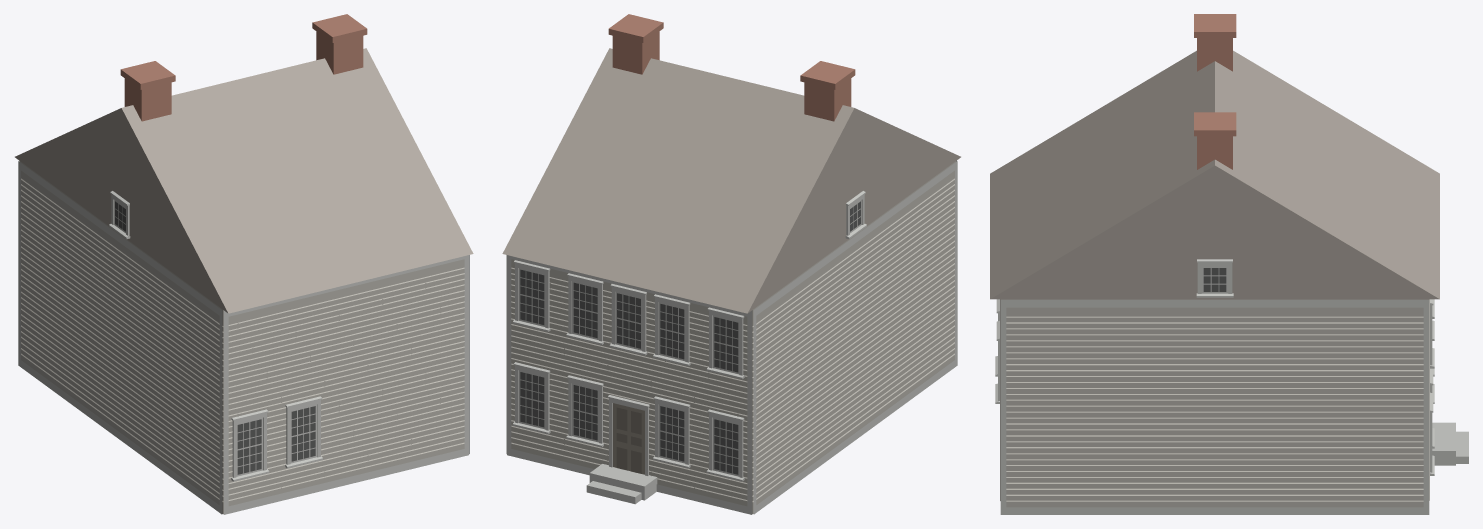
File: recon_1835_blk_washington_wells_d7_04__inferred_1835.glb
3 views of the same model, side by side, from view 1: azimuth 30°, elevation 25°; view 2: azimuth 150°, elevation 25°; view 3: azimuth 270°, elevation 25° (orthographic). The views are drawn at different scales.
Parts seen in each view (by area): view 1: recon_1835_blk_washington_wells_d7_04__inferred_1835; view 2: recon_1835_blk_washington_wells_d7_04__inferred_1835; view 3: recon_1835_blk_washington_wells_d7_04__inferred_1835.
Part boxes in pixels (x1,y1,x2,y2): recon_1835_blk_washington_wells_d7_04__inferred_1835: (15,14,473,514); recon_1835_blk_washington_wells_d7_04__inferred_1835: (502,14,960,514); recon_1835_blk_washington_wells_d7_04__inferred_1835: (990,14,1468,514).
Bounding box in the file's own units: 7.11 × 9.71 × 11.11.
